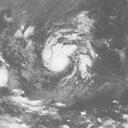cyclone: (43, 10, 99, 80)
